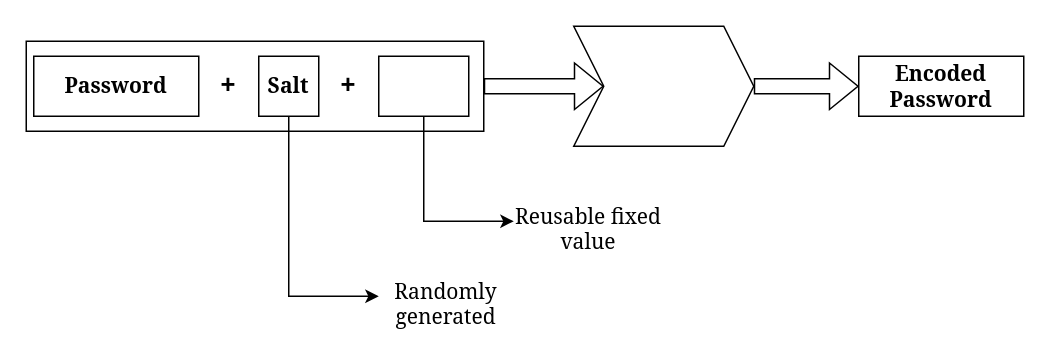
Image size: 1050x356. Some labels were removed from this diagram. Each missing label, with the centre of its shape:
"Pepper" goes at (423,85).
"SHA256 hash" goes at (663,85).
